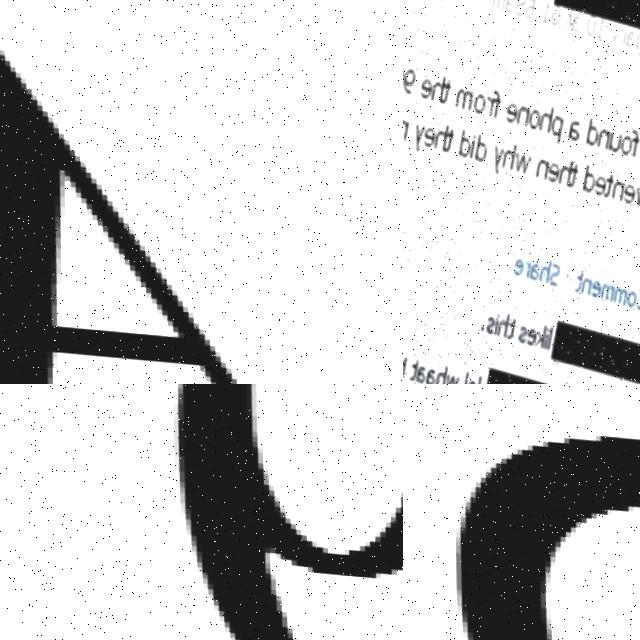0: (578, 10, 596, 36), (544, 1, 562, 27)
1: (591, 13, 605, 39), (535, 0, 550, 23)
5: (517, 0, 535, 17), (508, 0, 526, 16)
9: (131, 384, 403, 640), (403, 63, 415, 93)
A: (0, 21, 403, 384)
D: (417, 410, 640, 640)
